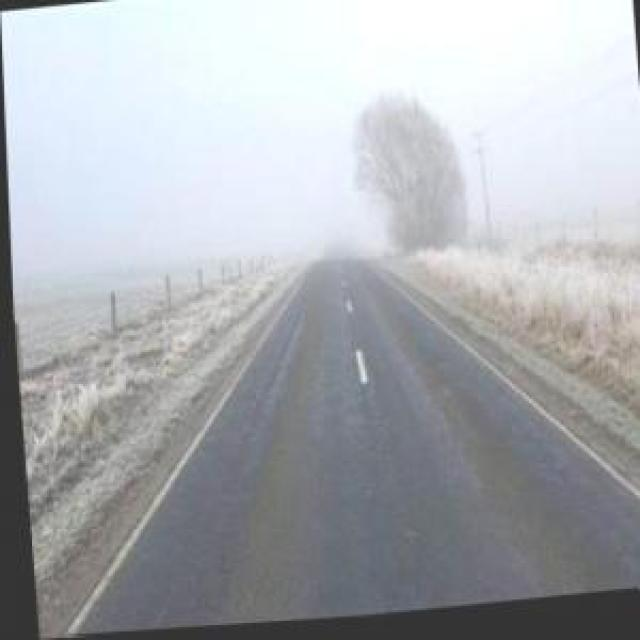ice-road: (56, 261, 638, 636)
